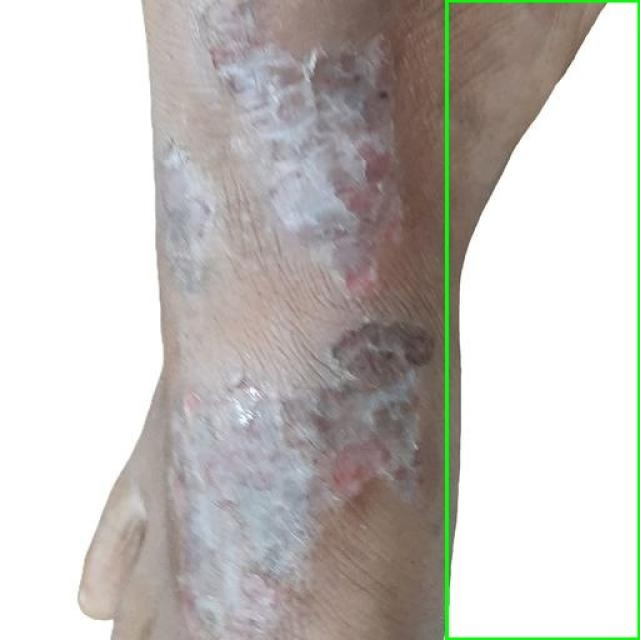Contact Dermatitis: (446, 0, 639, 639)
